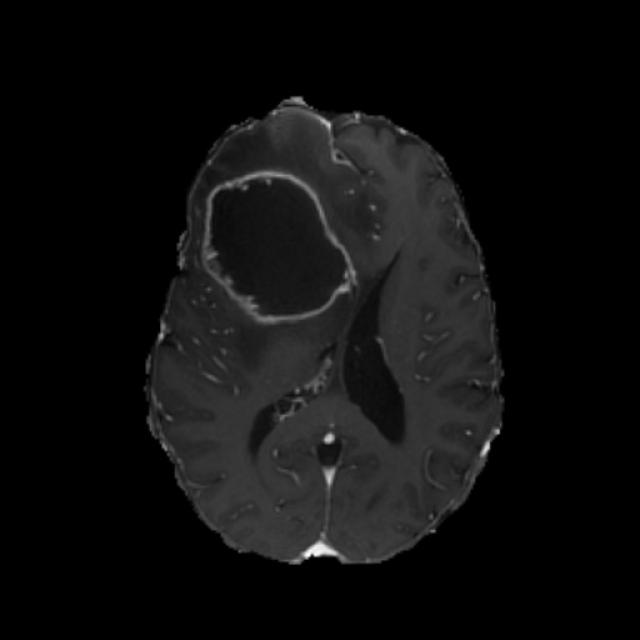negative: (204, 170, 356, 326)
